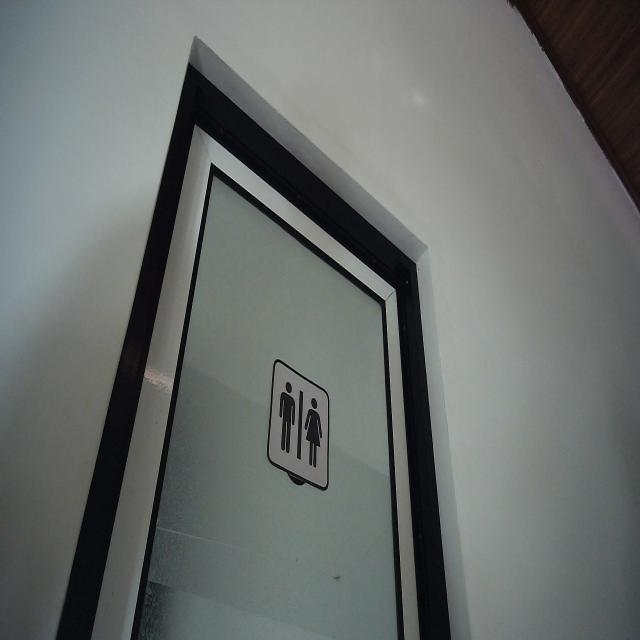restroom: (264, 354, 332, 496)
